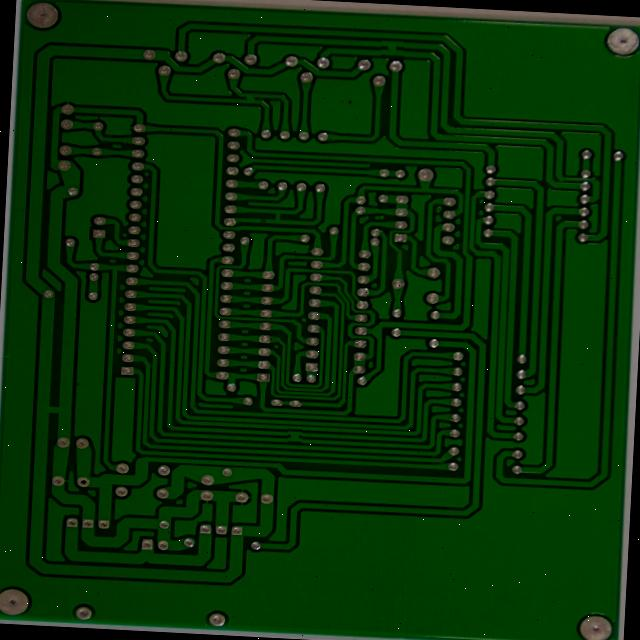short: (41, 393, 67, 421), (380, 38, 405, 58), (269, 207, 286, 225), (242, 90, 261, 106), (287, 428, 303, 443)
